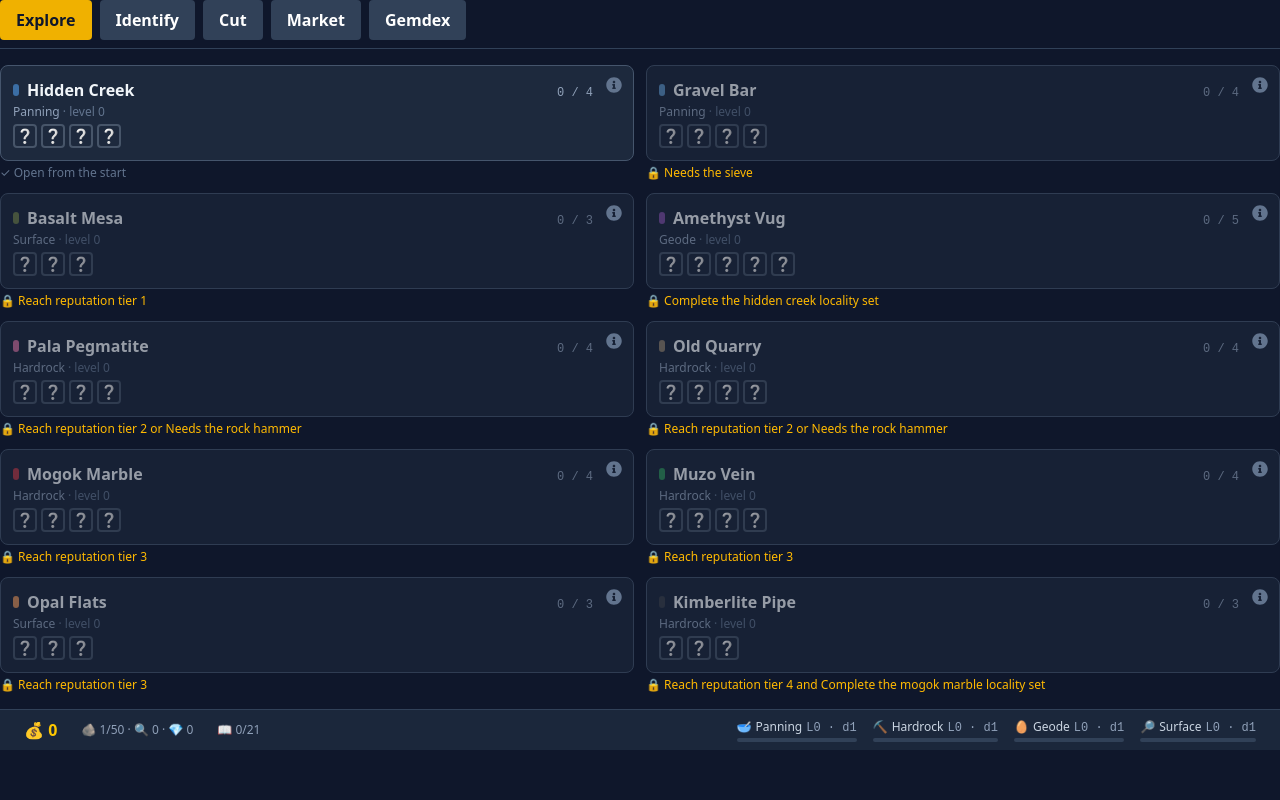
Test: Rockhound shell › falls back to the specimen's own species, not Hidden Creek, when its locality is gone
Click the button "Identify" at coordinates (147, 20), box [100,0,195,40]
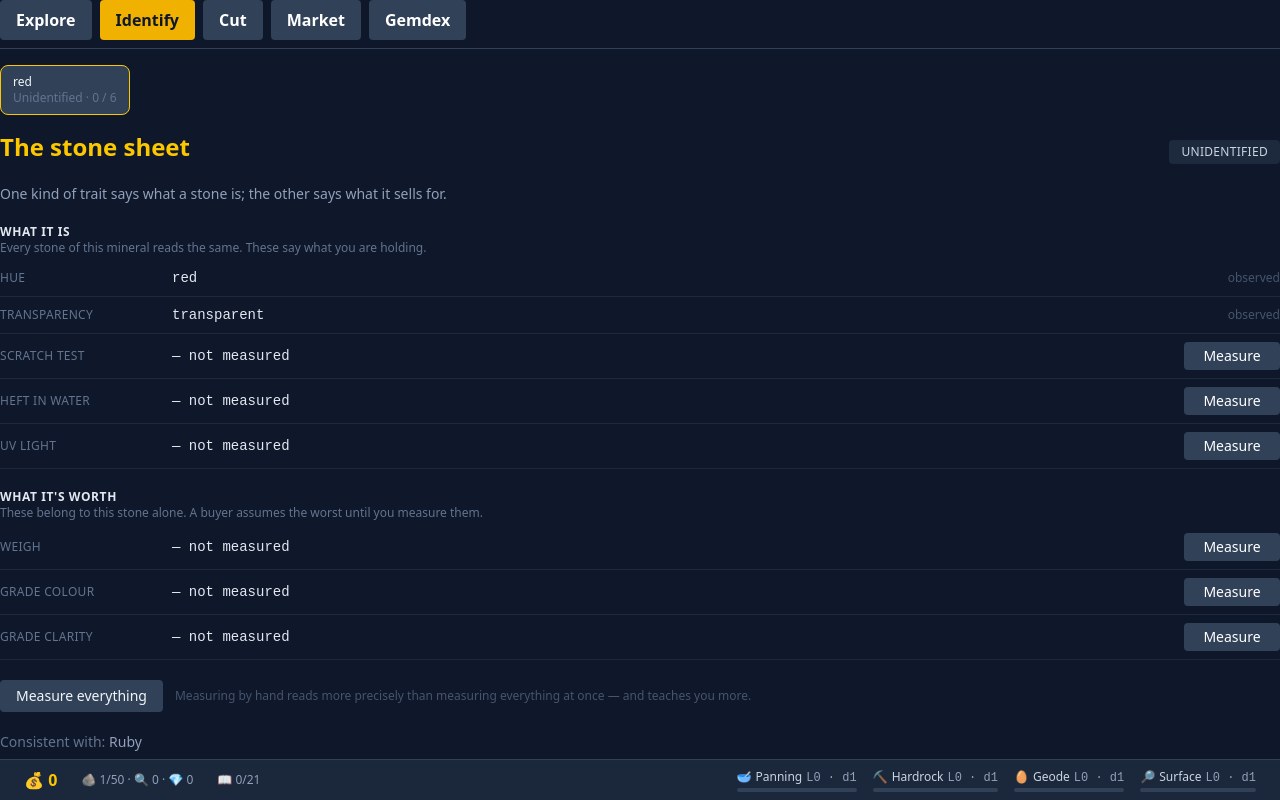
Expected: the element named "still consistent" shows "Ruby", [109,732,142,751]
